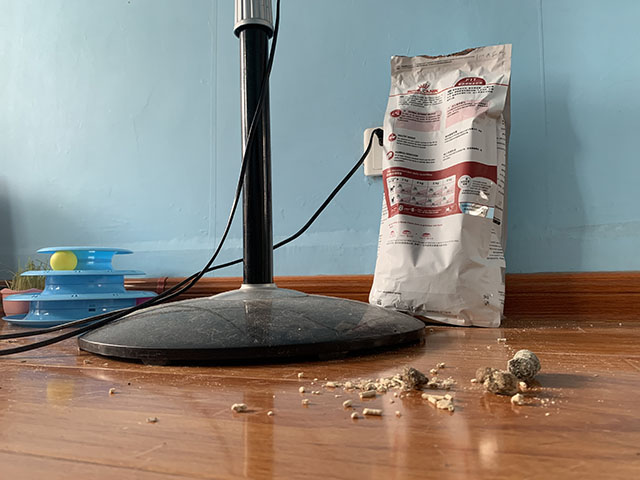feces: (475, 344, 541, 396), (401, 366, 428, 391)
wire: (1, 1, 384, 357)
